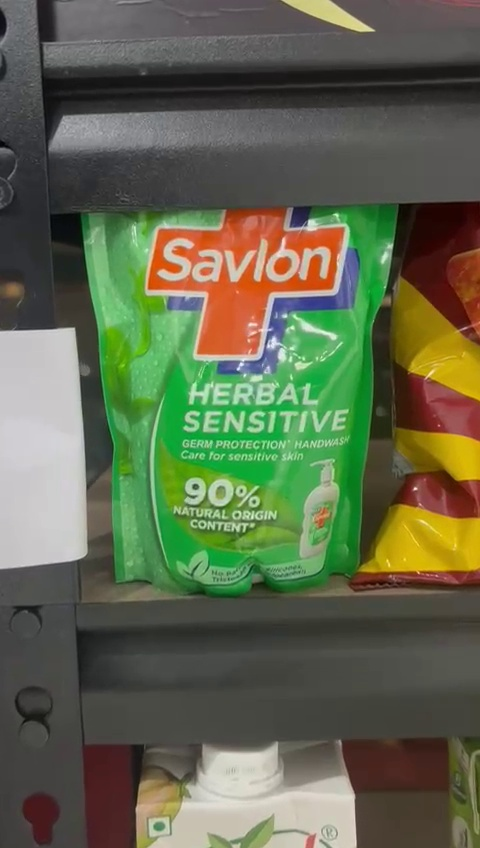Savlon Herbal: (74, 208, 384, 588)
